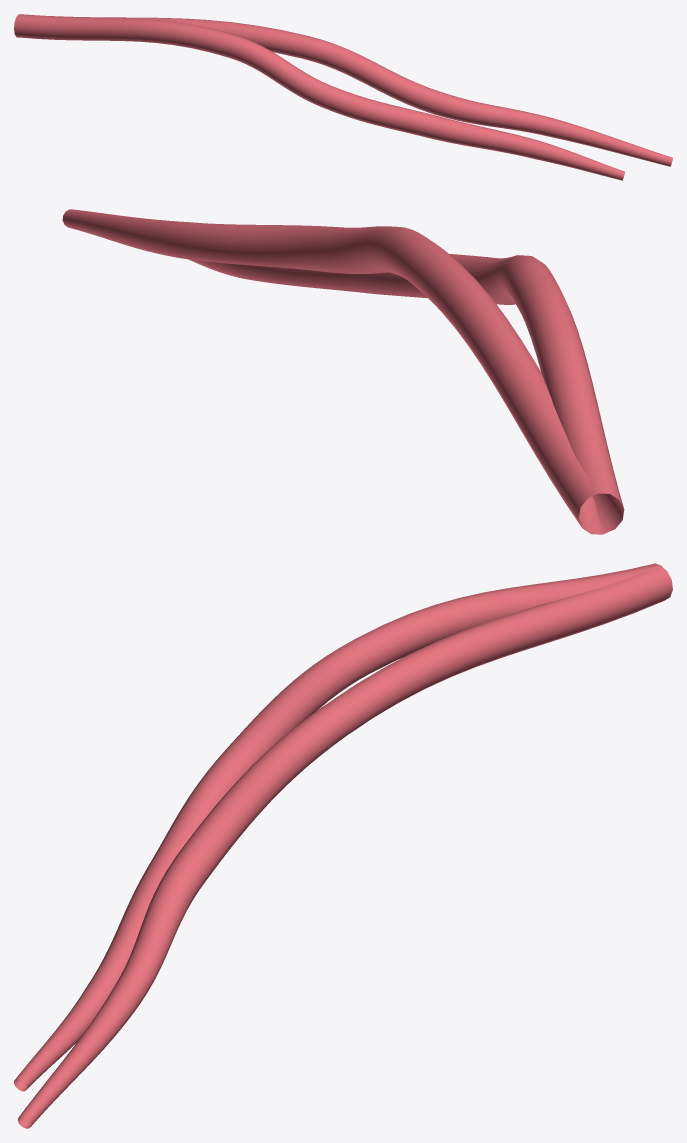
3 views of the same model, one above another, from view 1: azimuth 30°, elevation 25°; view 2: azimuth 150°, elevation 25°; view 3: azimuth 270°, elevation 25° (orthographic). The views are drawn at different scales.
Visible parts, largest first — view 1: ZA_6c8c9b2071ebaea5; view 2: ZA_6c8c9b2071ebaea5; view 3: ZA_6c8c9b2071ebaea5.
Boxes of the visible parts, x1,y1,x2,y2 form: ZA_6c8c9b2071ebaea5: [14, 14, 672, 180]; ZA_6c8c9b2071ebaea5: [62, 209, 624, 534]; ZA_6c8c9b2071ebaea5: [14, 563, 672, 1128].
Size of the model in its own units: 0.0114 by 0.00329 by 0.0085.
